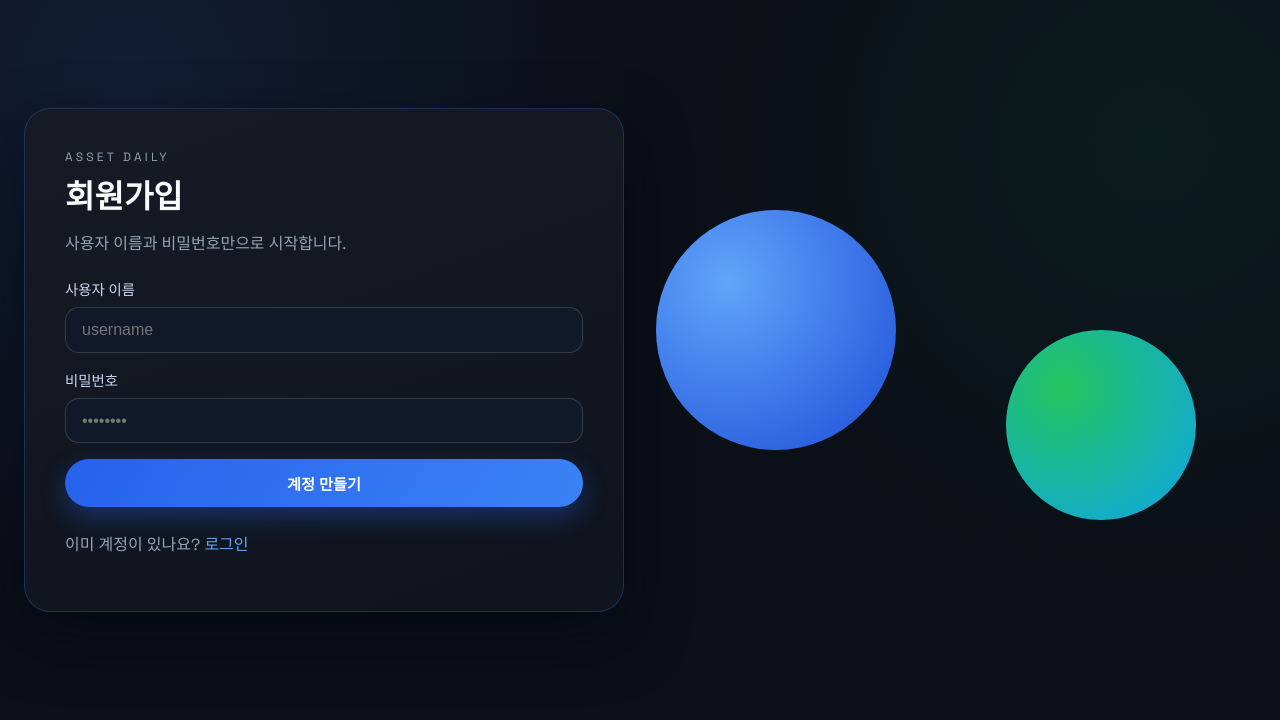
shows signup error message when register fails
This screenshot has width=1280, height=720.
Type "test" into the field labelled "사용자 이름".
click(324, 330); type("test")  # box [65,307,583,353]
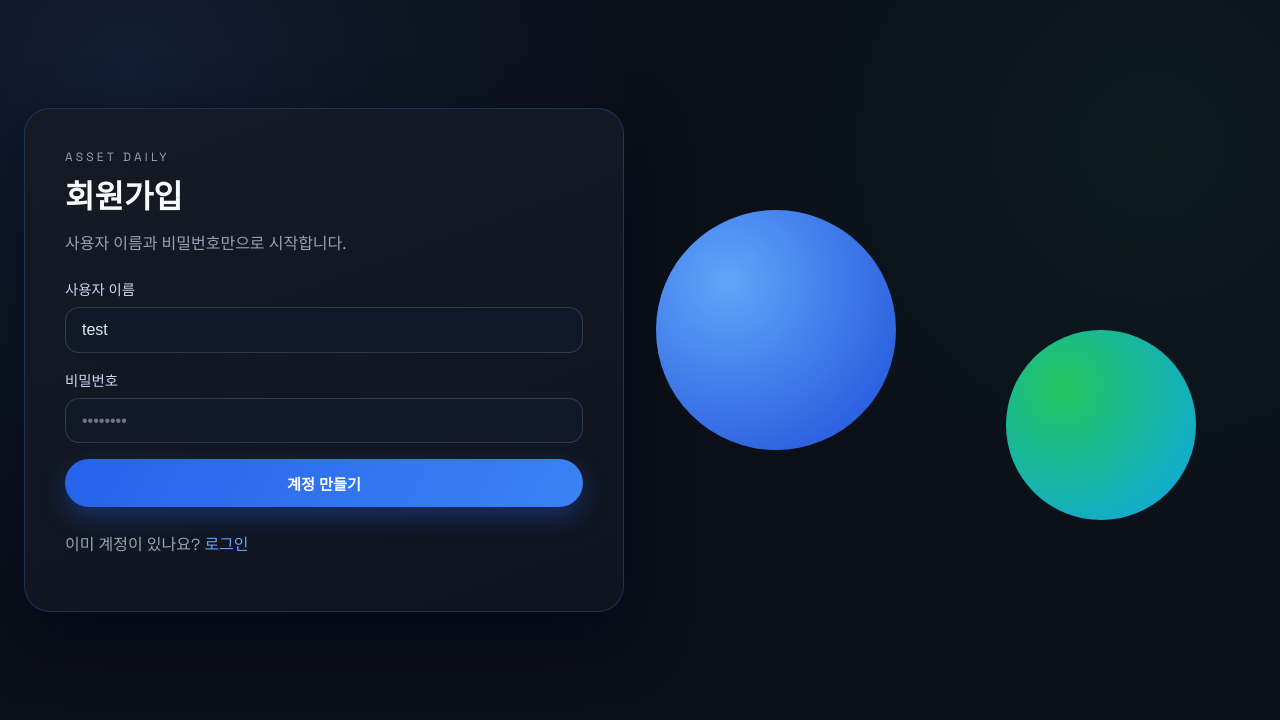
Type "test" into the password field labelled "비밀번호".
click(324, 421); type("test")  # box [65,398,583,443]
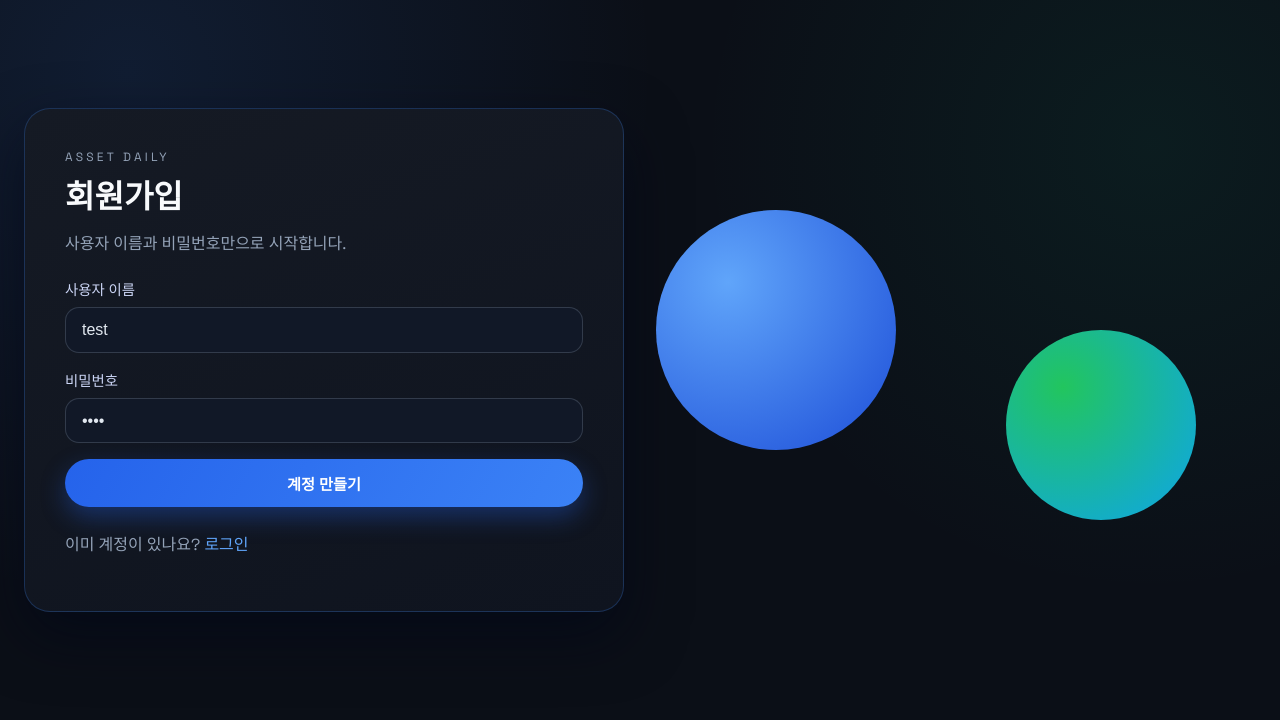
Click the button "계정 만들기".
click(324, 483)  # box [65,459,583,507]
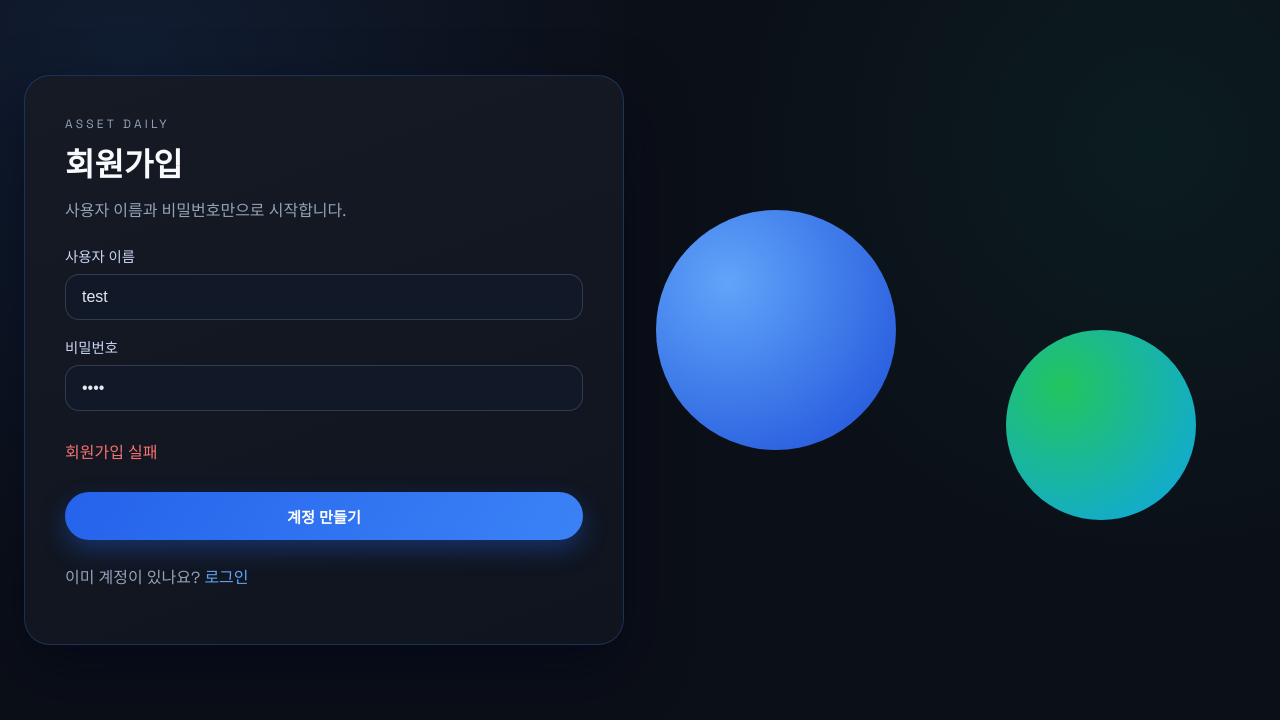
Check: the text "회원가입 실패" is shown, box [65,442,157,463]
